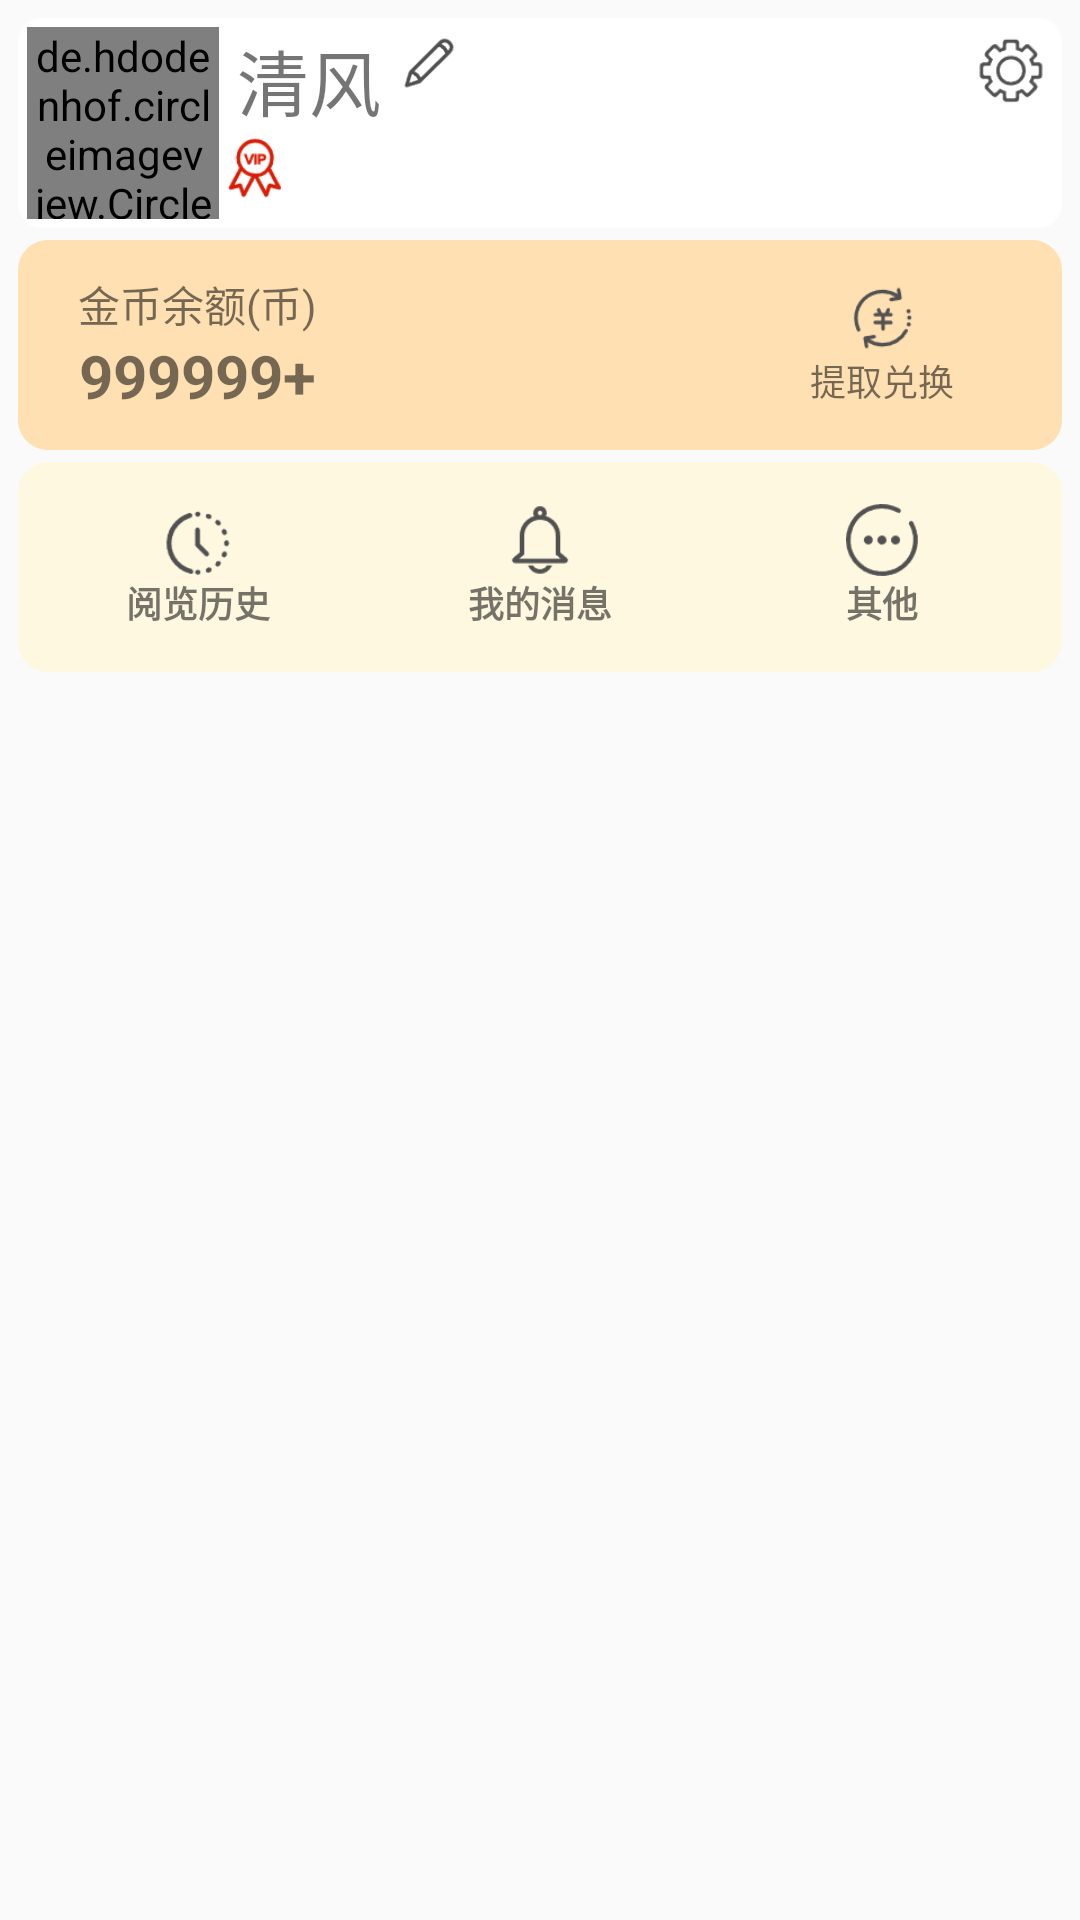

Icon bounding boxes for this 1080×1920 phone screenshot, format [x1, y1, x2, y2]:
vip on: [228, 138, 281, 198]
